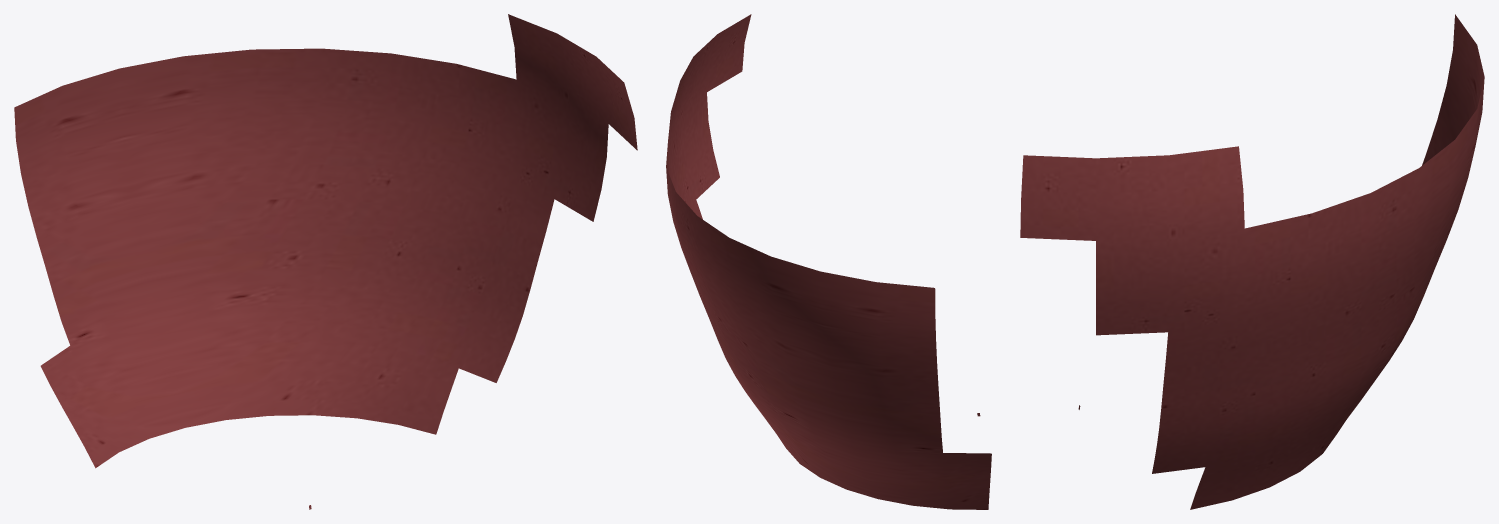
Rendered from falsevase1.FBX.
3 views of the same model, side by side, from view 1: azimuth 30°, elevation 25°; view 2: azimuth 150°, elevation 25°; view 3: azimuth 270°, elevation 25° (orthographic). The views are drawn at different scales.
Parts seen in each view (by area): view 1: Object003; view 2: Object003; view 3: Object003.
Boxes of the visible parts, box(x1,y1,x2,y2) form: Object003: box(14, 14, 637, 509); Object003: box(666, 14, 991, 509); Object003: box(1020, 14, 1484, 509).
Bounding box in the file's own units: 1678 × 1363 × 1387.
1 material, 1 textured.
